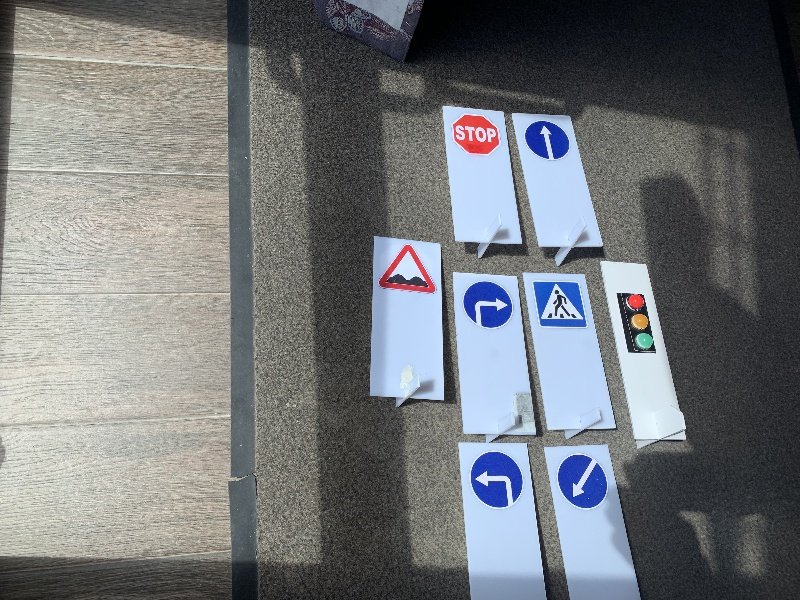Left: (469, 451, 526, 509)
Nerov: (382, 244, 434, 292)
Right: (461, 279, 515, 330)
Stop: (451, 111, 500, 154)
forw: (526, 121, 566, 159)
pesh: (529, 276, 591, 331)
prep: (557, 454, 608, 509)
